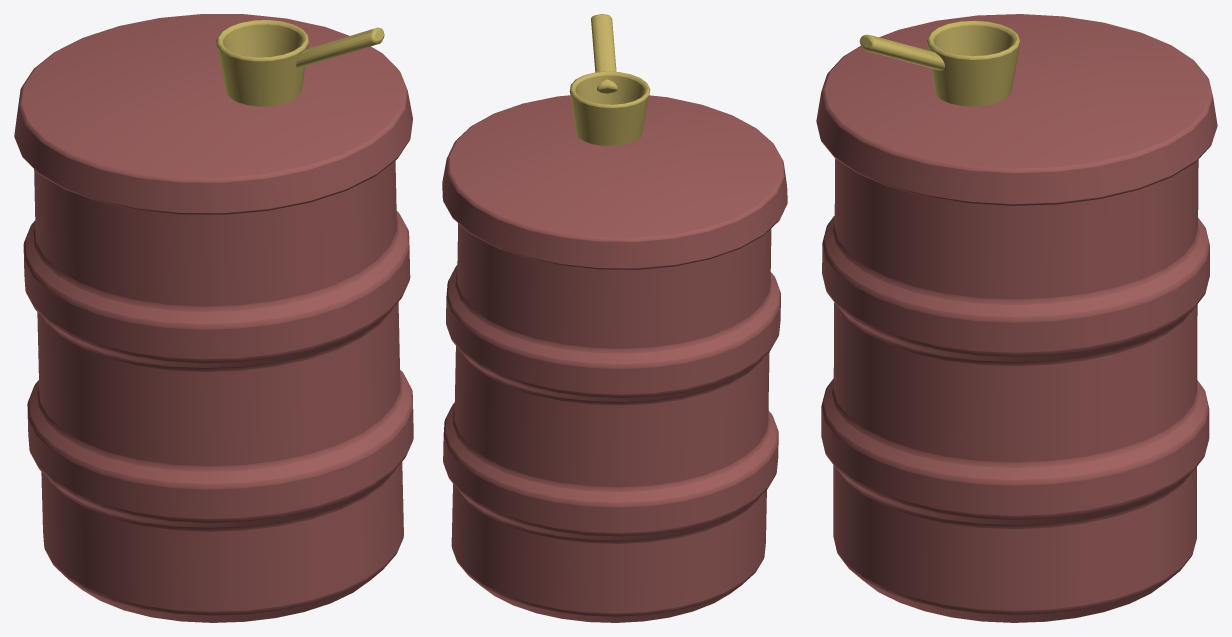
The model's file is pg_water_drum_1.glb.
The picture shows the model from 3 angles, left to right: view 1: azimuth 30°, elevation 25°; view 2: azimuth 150°, elevation 25°; view 3: azimuth 270°, elevation 25°; orthographic projection. The views are drawn at different scales.
Parts seen in each view (by area): view 1: pg_water_drum_1_pg_plastic; view 2: pg_water_drum_1_pg_plastic; view 3: pg_water_drum_1_pg_plastic.
Part boxes in pixels (box(x1,y1,x2,y2)): pg_water_drum_1_pg_plastic: box(14, 14, 413, 622); pg_water_drum_1_pg_plastic: box(442, 14, 787, 622); pg_water_drum_1_pg_plastic: box(816, 14, 1217, 622).
Size of the model in its own units: 0.7254 by 1.12 by 0.7221.
